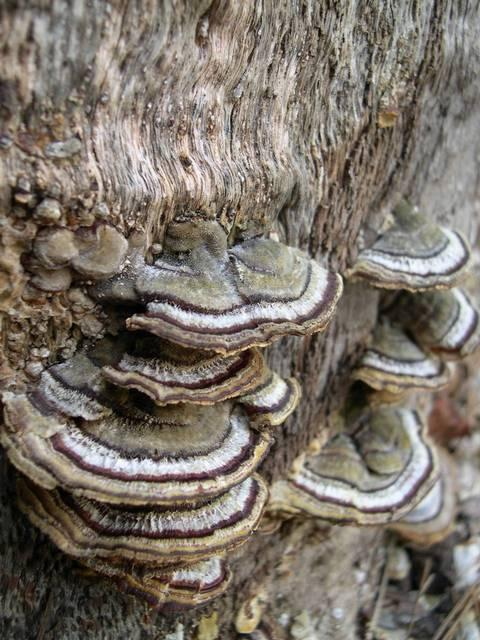Non-edible Mushroom: (0, 211, 344, 612), (268, 197, 478, 536), (86, 212, 344, 355)
